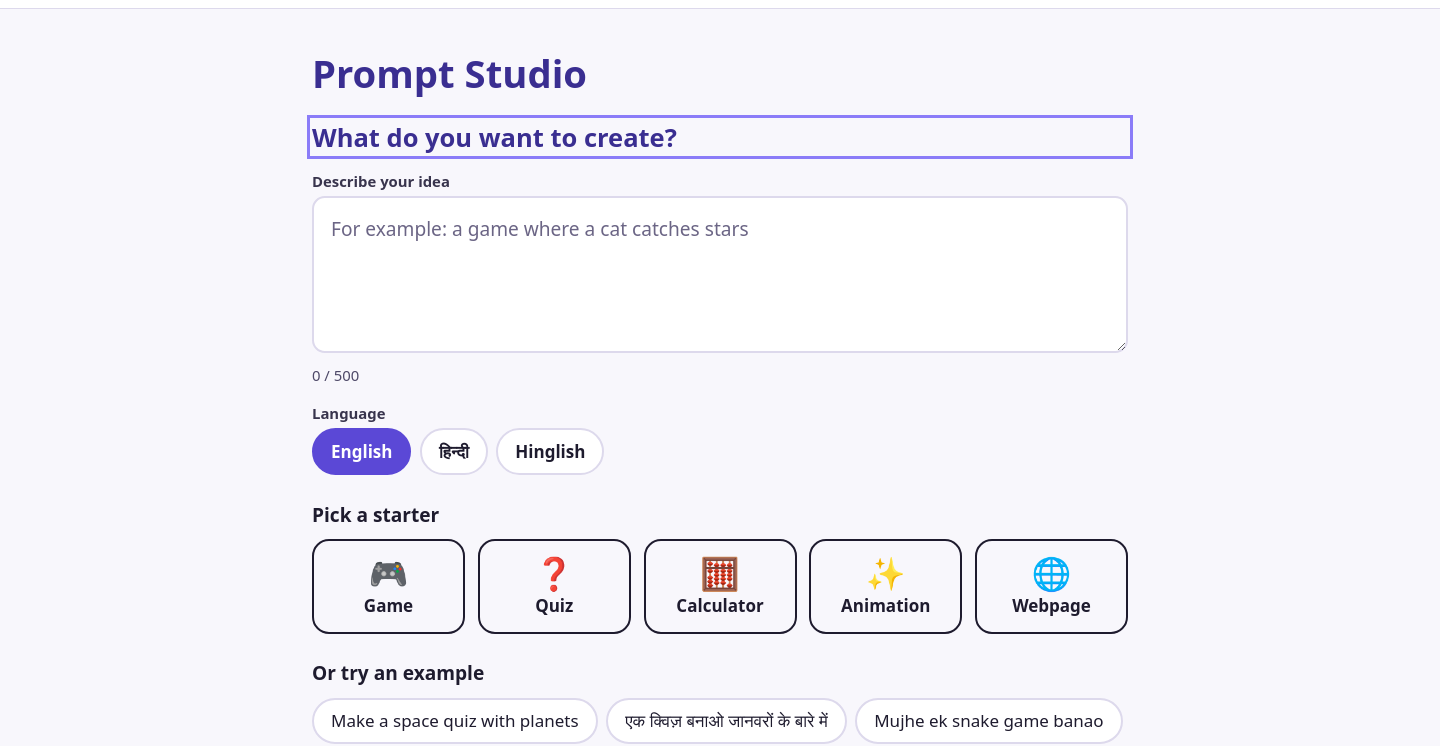
Test: Prompt Studio › keeps "Make my plan" disabled until there is a prompt, and shows the counter
The width and height of the screenshot is (1440, 746).
Expected: the heading "What do you want to create?" is shown, x1=312 y1=120 x2=677 y2=154
Type "a game" into the text box labelled "Describe your idea" at (720, 275), box x1=312 y1=196 x2=1128 y2=353
(page scrolled)
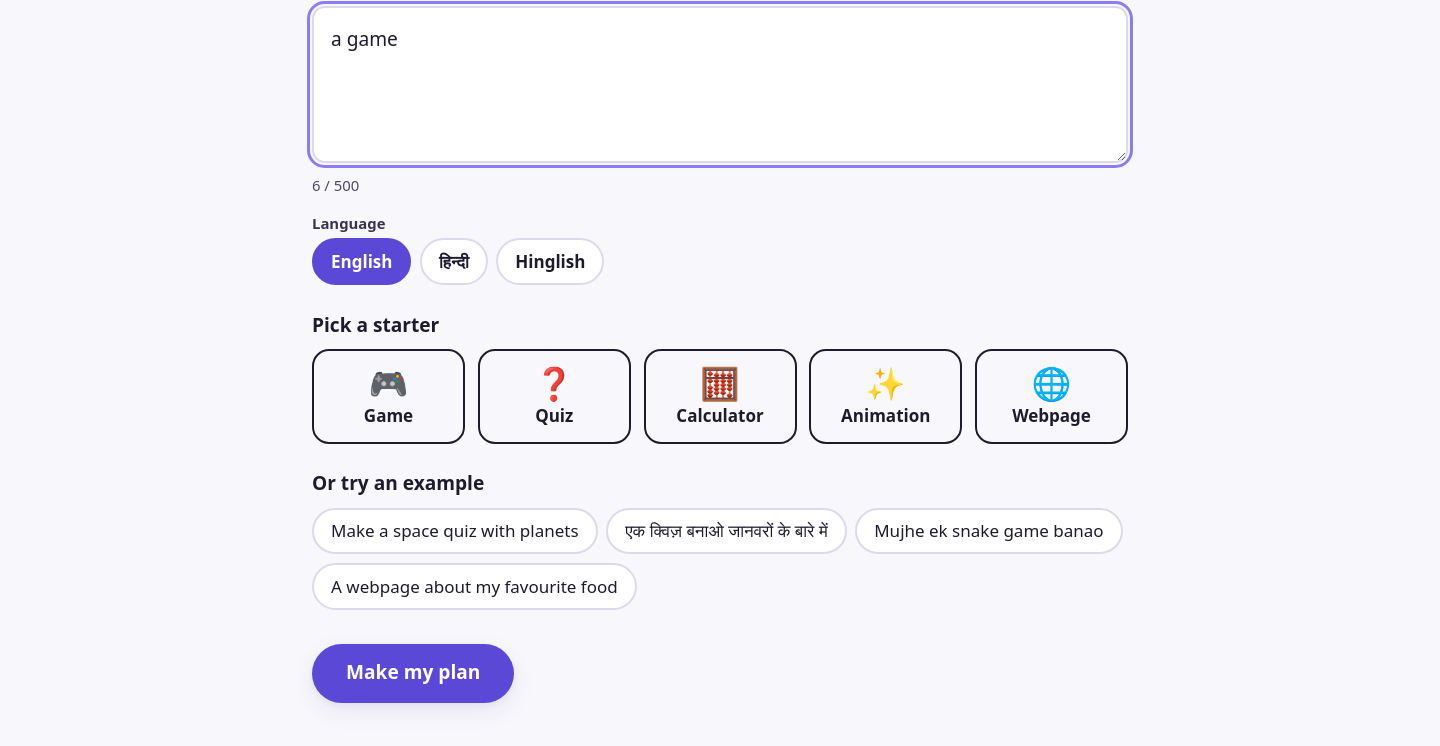
Now the text "6 / 500" is shown, box x1=312 y1=175 x2=359 y2=195
Now the button "Make my plan" is enabled, box x1=312 y1=644 x2=514 y2=703
